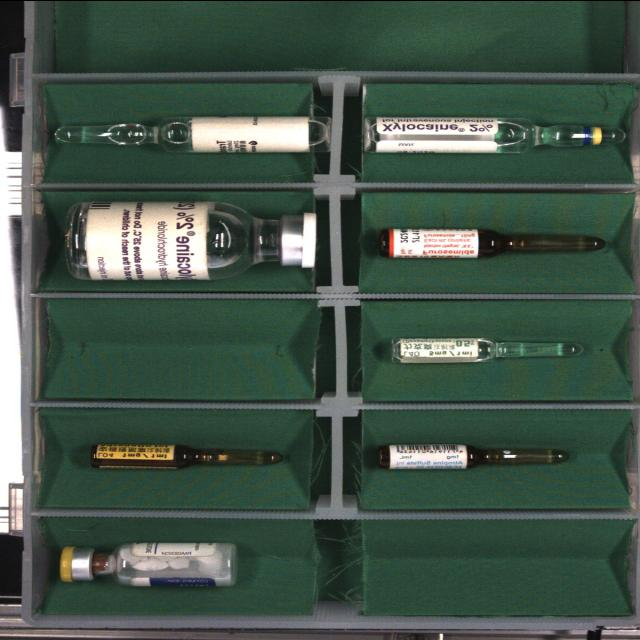Vials: (66, 200, 316, 280), (60, 541, 236, 586)
